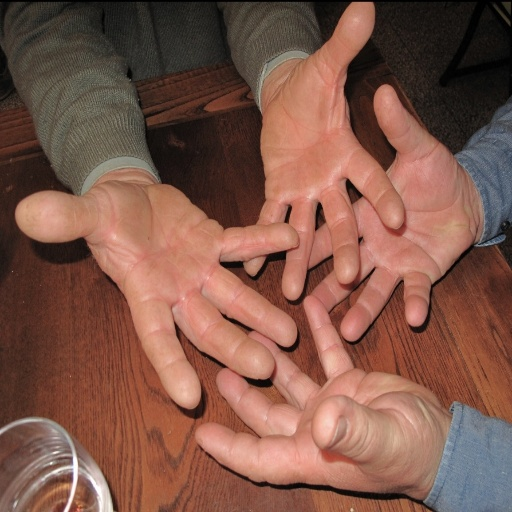hand: (11, 188, 300, 408), (192, 293, 448, 495), (241, 0, 402, 302), (305, 81, 479, 343)
